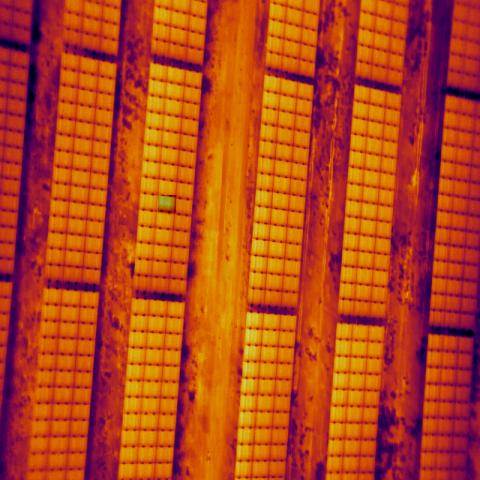fault: (158, 196, 176, 214)
